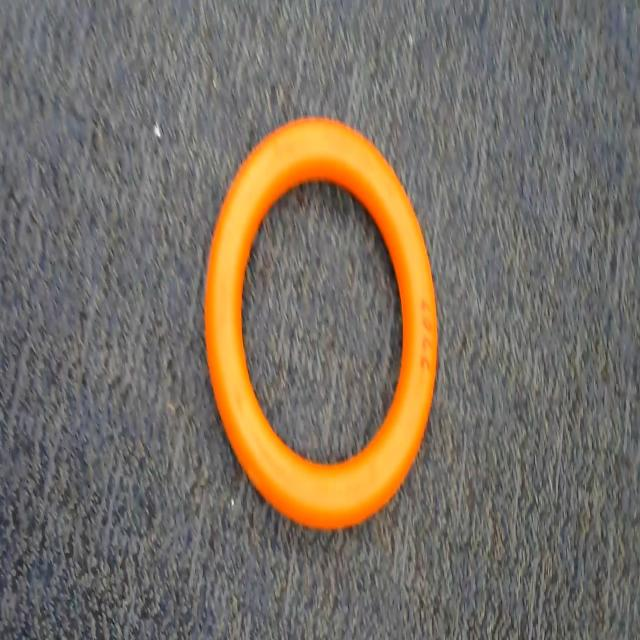note: (199, 100, 449, 544)
